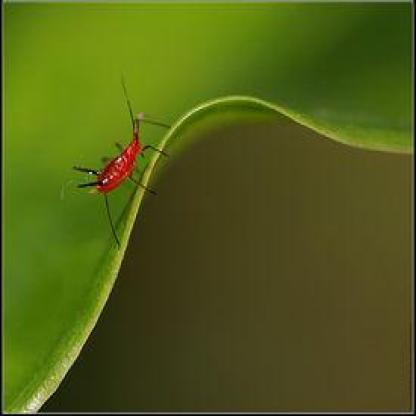aphid: (67, 74, 166, 227)
